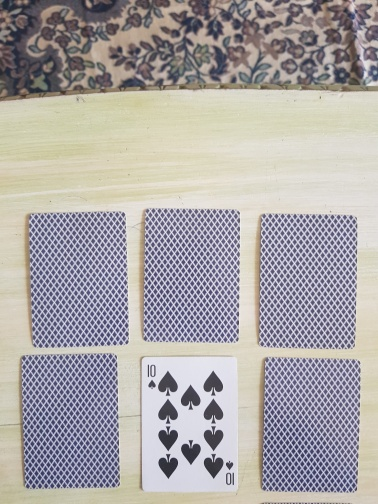ten: (140, 355, 239, 494)
